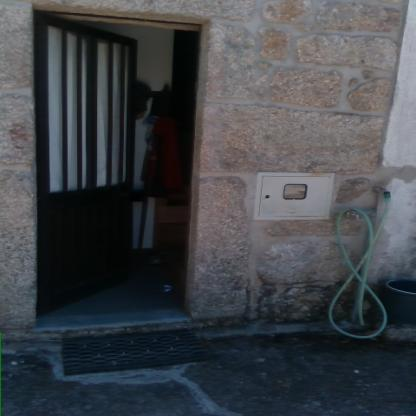semi: (24, 3, 216, 335)
